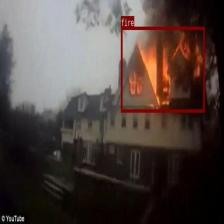fire: (121, 26, 205, 112)
